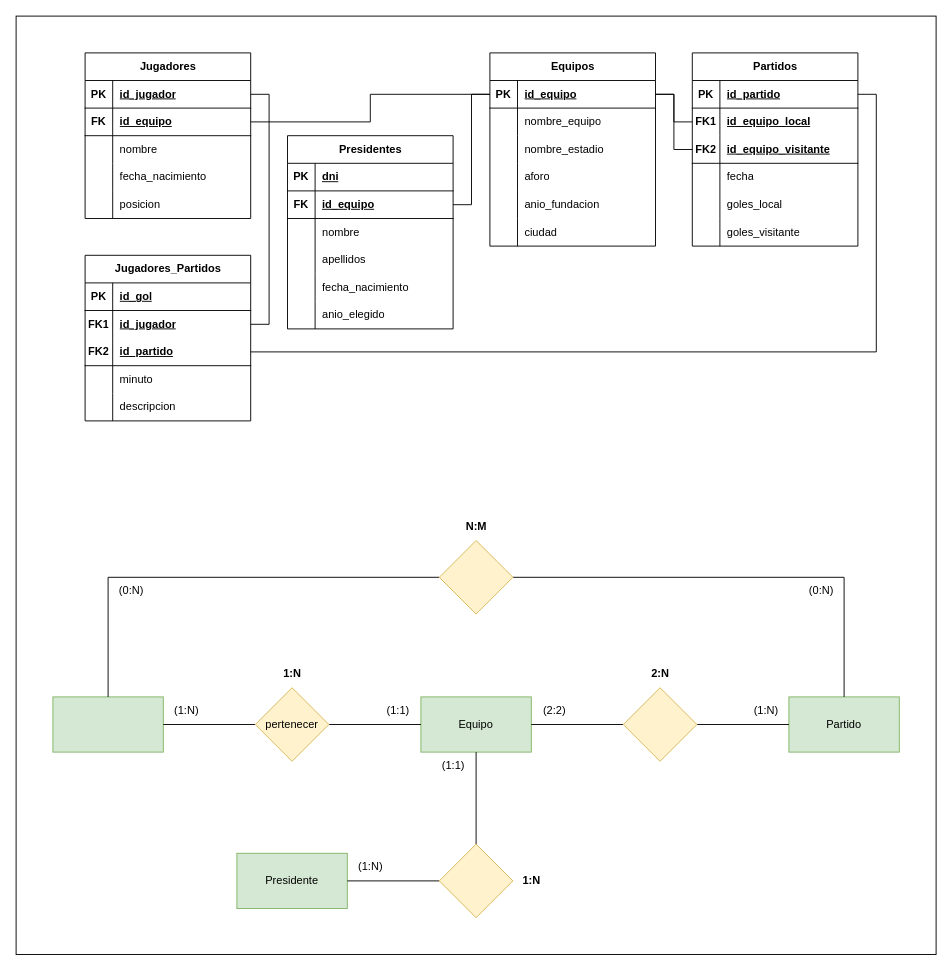
Image size: 952x971. Some labels were removed from this diagram. Each missing label, with the centre of its shape:
"Jugador" goes at [107,724].
"jugar" goes at [659,724].
"marcar gol" goes at [475,577].
"ser" goes at [475,880].
